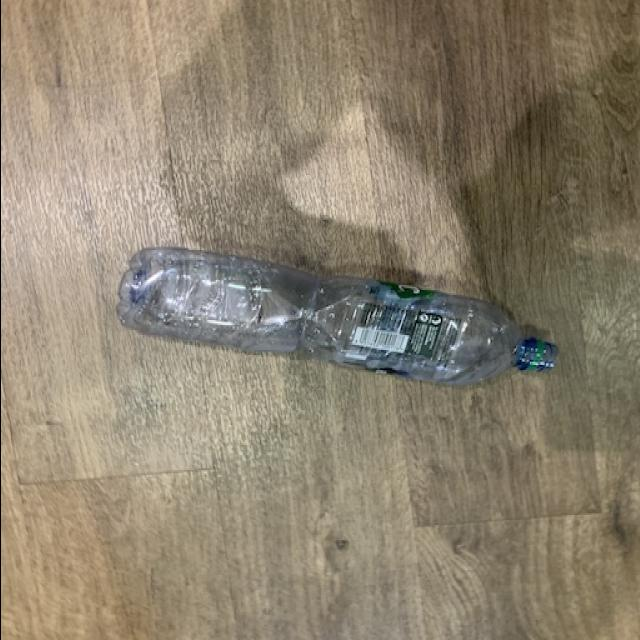PET: (114, 244, 558, 388)
